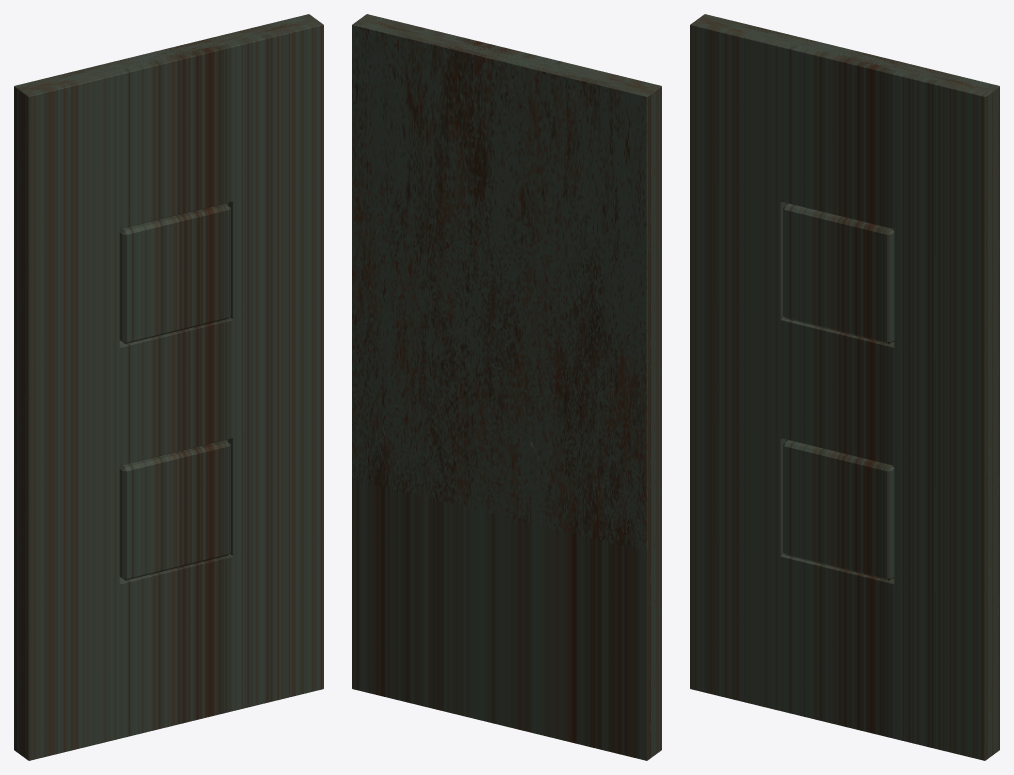
Rendered from button.fbx.
3 views of the same model, side by side, from view 1: azimuth 30°, elevation 25°; view 2: azimuth 150°, elevation 25°; view 3: azimuth 330°, elevation 25° (orthographic).
Visible parts, largest first — view 1: polySurface6, polySurface4, polySurface5; view 2: polySurface6; view 3: polySurface6, polySurface4, polySurface5.
Part boxes in pixels (x1,y1,x2,y2): polySurface6: (14,14,323,760); polySurface4: (119,203,230,343); polySurface5: (119,440,230,580); polySurface6: (352,14,661,760); polySurface6: (690,14,999,760); polySurface4: (783,203,894,343); polySurface5: (783,440,894,580).
Size of the model in its own units: 0.928 by 1.99 by 0.0909.
